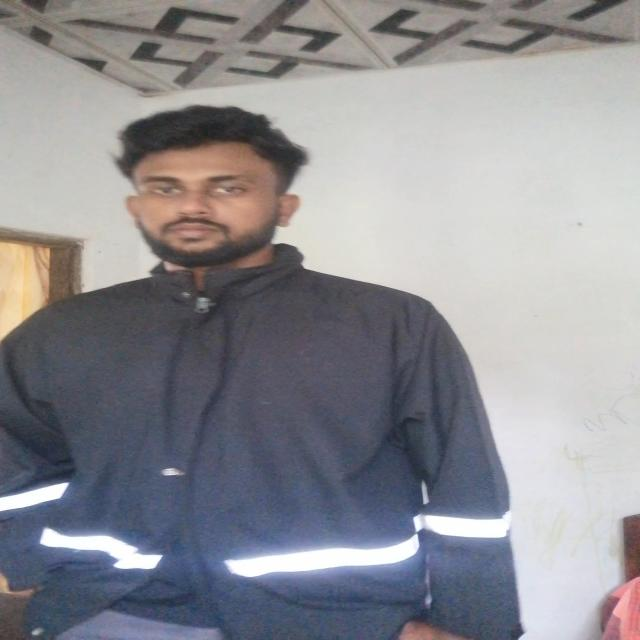Jacket_Wearer: (0, 253, 514, 640)
